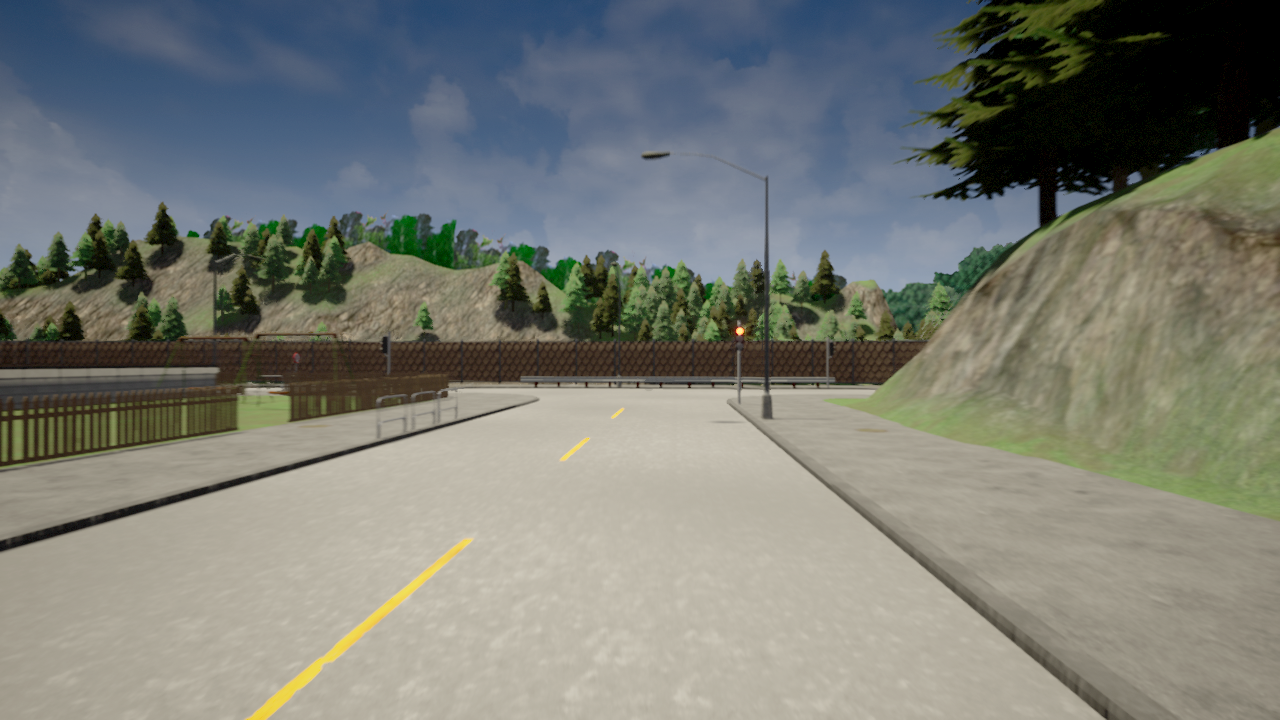red: (735, 327, 745, 352)
